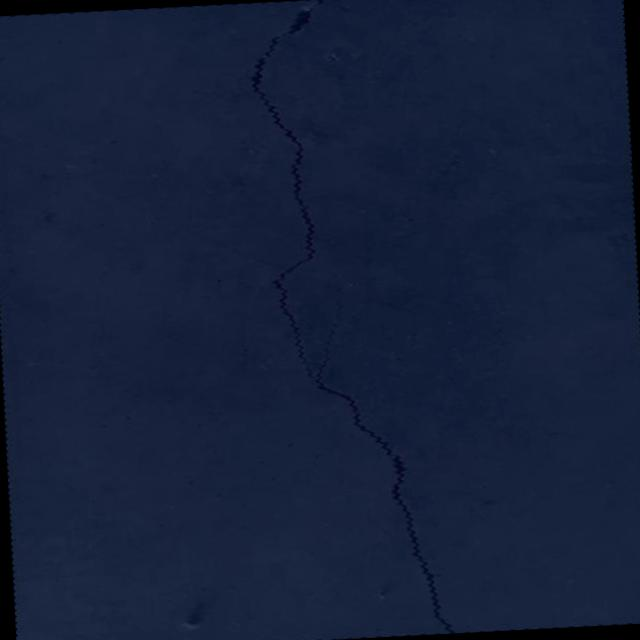crack: (210, 0, 455, 640), (62, 87, 156, 107), (0, 56, 41, 79), (154, 90, 212, 102), (51, 82, 66, 92)
